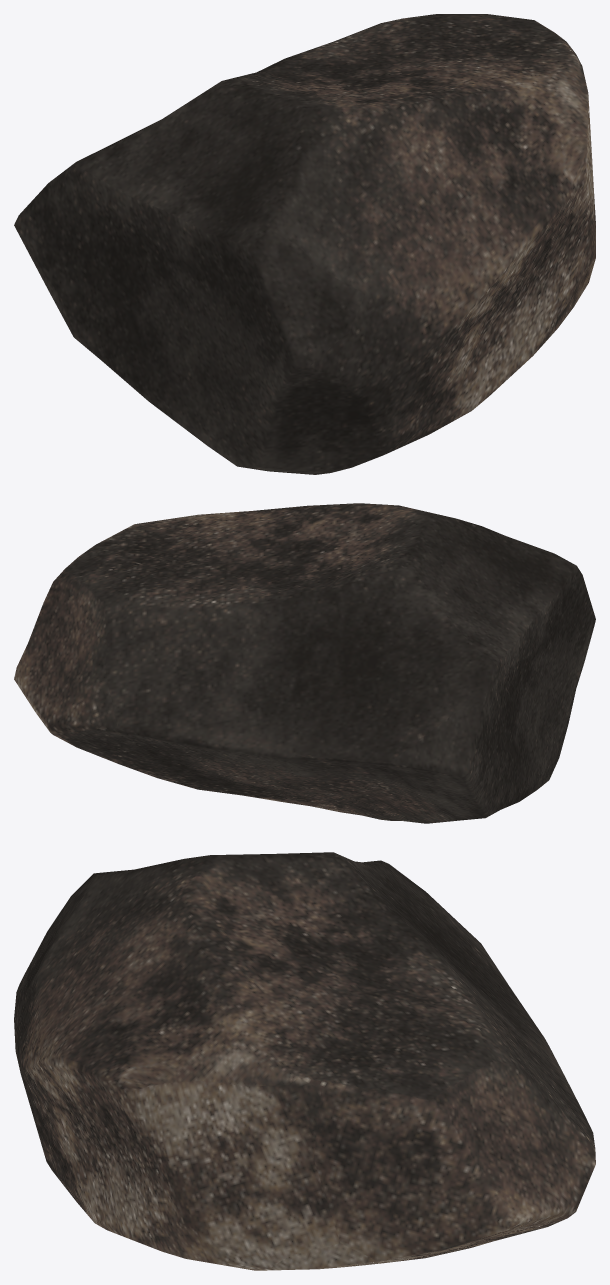
The model's file is SM_RP_Rock_4m_11.glb.
The picture shows the model from 3 angles, top to bottom: view 1: azimuth 30°, elevation 25°; view 2: azimuth 150°, elevation 25°; view 3: azimuth 270°, elevation 25°; orthographic projection. The views are drawn at different scales.
Visible parts, largest first — view 1: SM_RP_Rock_4m_11; view 2: SM_RP_Rock_4m_11; view 3: SM_RP_Rock_4m_11.
Part boxes in pixels (x1,y1,x2,y2): SM_RP_Rock_4m_11: [14, 14, 595, 474]; SM_RP_Rock_4m_11: [14, 503, 595, 823]; SM_RP_Rock_4m_11: [14, 852, 595, 1270].
Size of the model in its own units: 6.38 by 4.01 by 5.78.
Materials: 1 (1 with a texture image).
